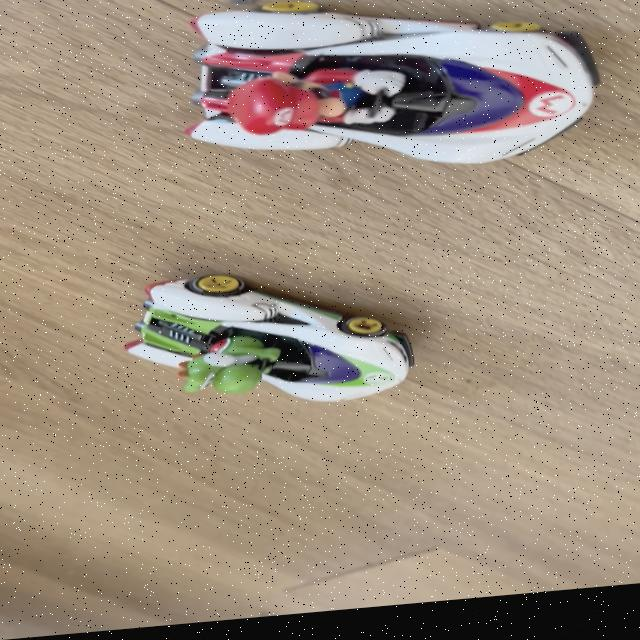mario: (170, 0, 610, 201)
yoshi: (146, 266, 428, 430)
